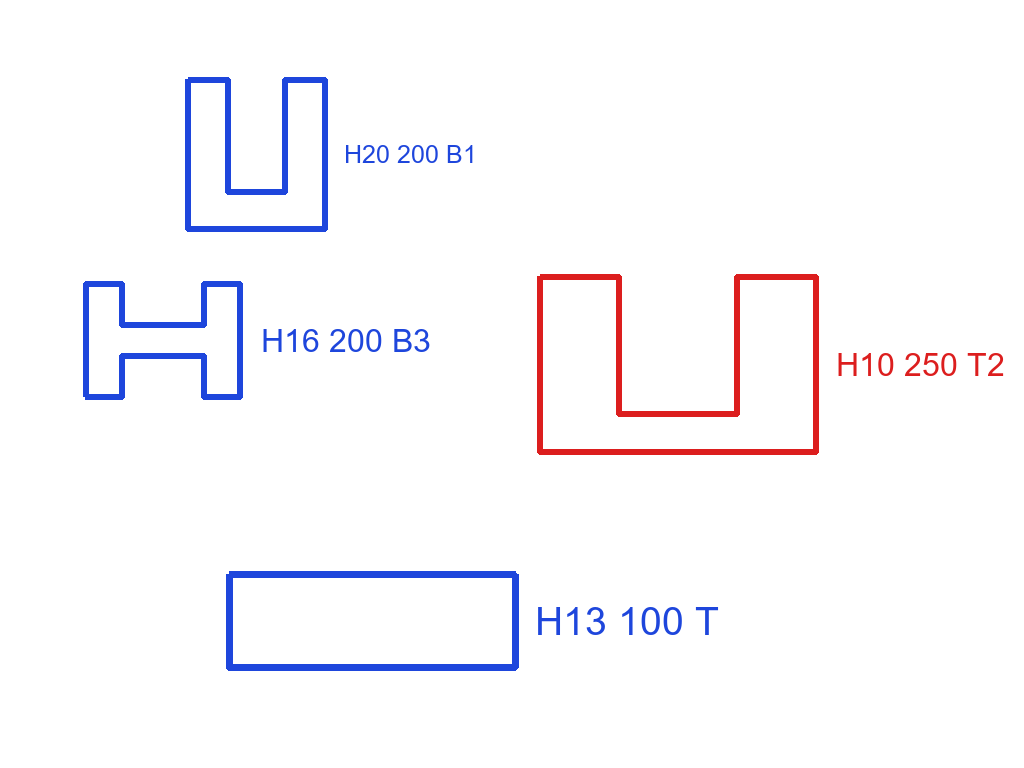shape: (535, 272, 821, 458), (224, 569, 521, 673), (184, 74, 329, 234), (80, 279, 246, 402)
text: (533, 605, 721, 637), (259, 327, 433, 354), (834, 351, 1007, 378), (342, 143, 479, 165)
